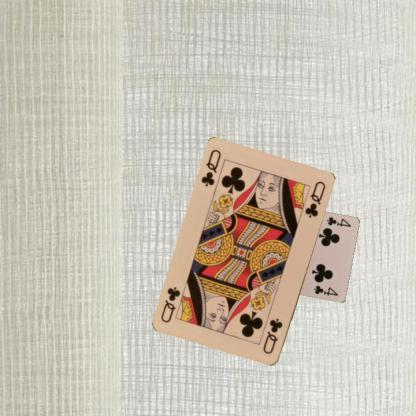4c: (324, 214, 352, 229)
Qc: (199, 147, 222, 188), (261, 316, 284, 356)
